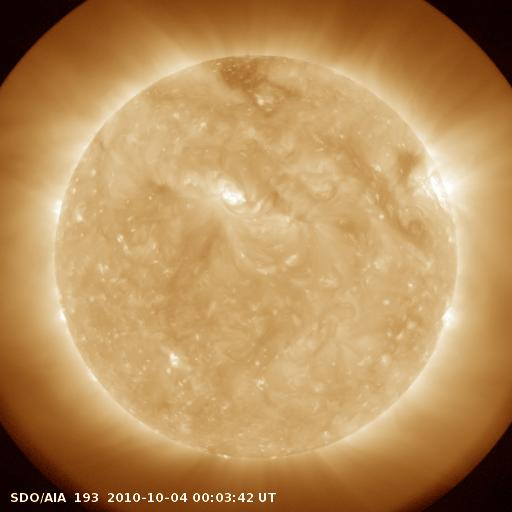coronal_hole: (210, 49, 291, 109)
